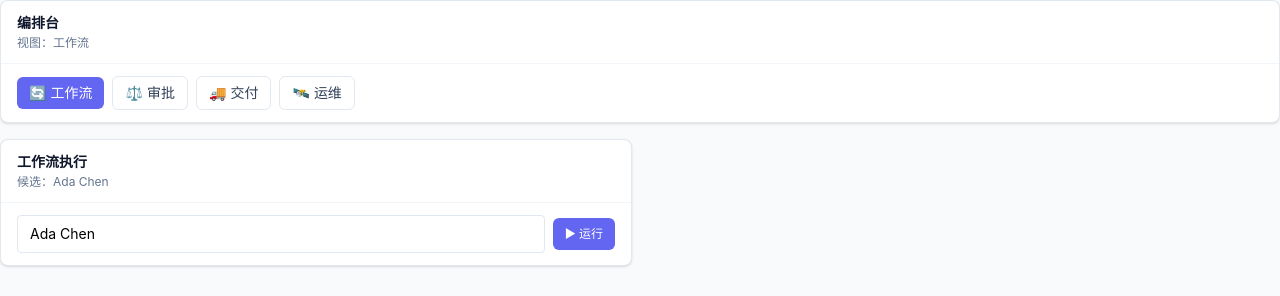
V132 ConsoleShell parity with monolith › approval decide (approval panel) replaces monolith POST /decide
Click the tab with test id "shell-tab-approvals" at (150, 93), box [112, 76, 188, 110]
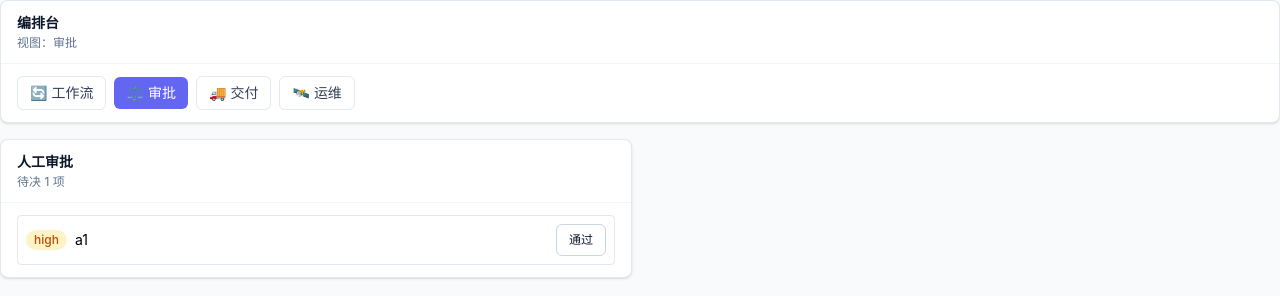
Now the element with test id "approval-a1" is shown, box [17, 215, 615, 265]
Click the button with test id "approval-a1-approve" at (581, 240), box [556, 224, 606, 256]
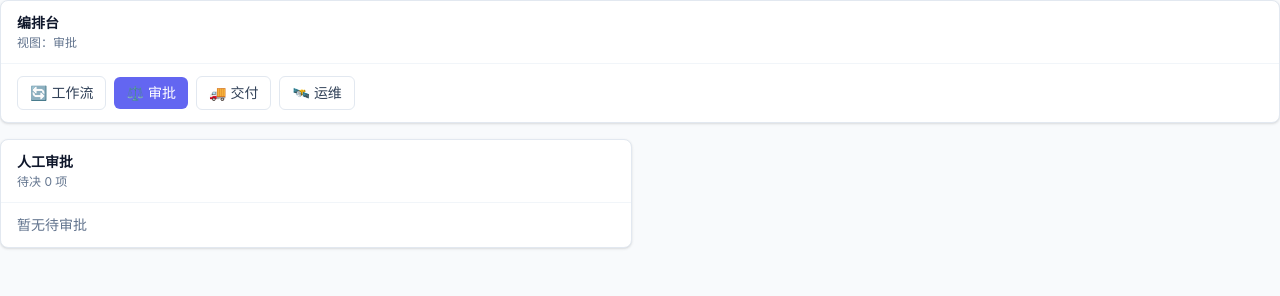
Now the element with test id "approval-a1" is gone
